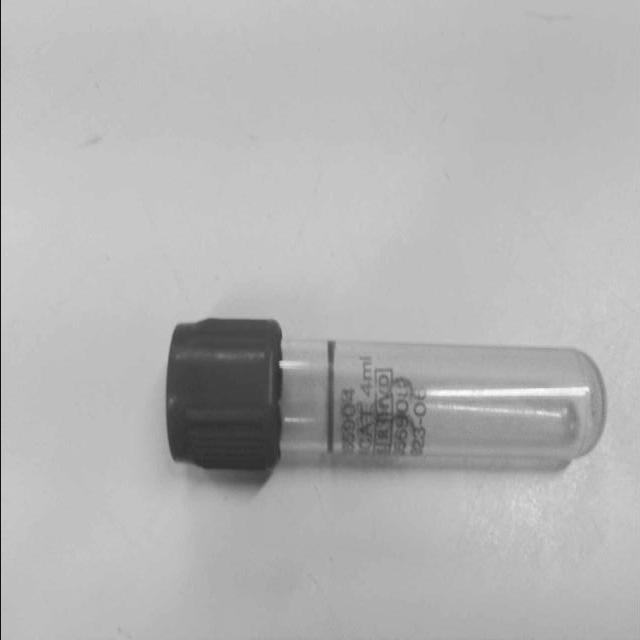Sharps: (165, 316, 609, 473)
